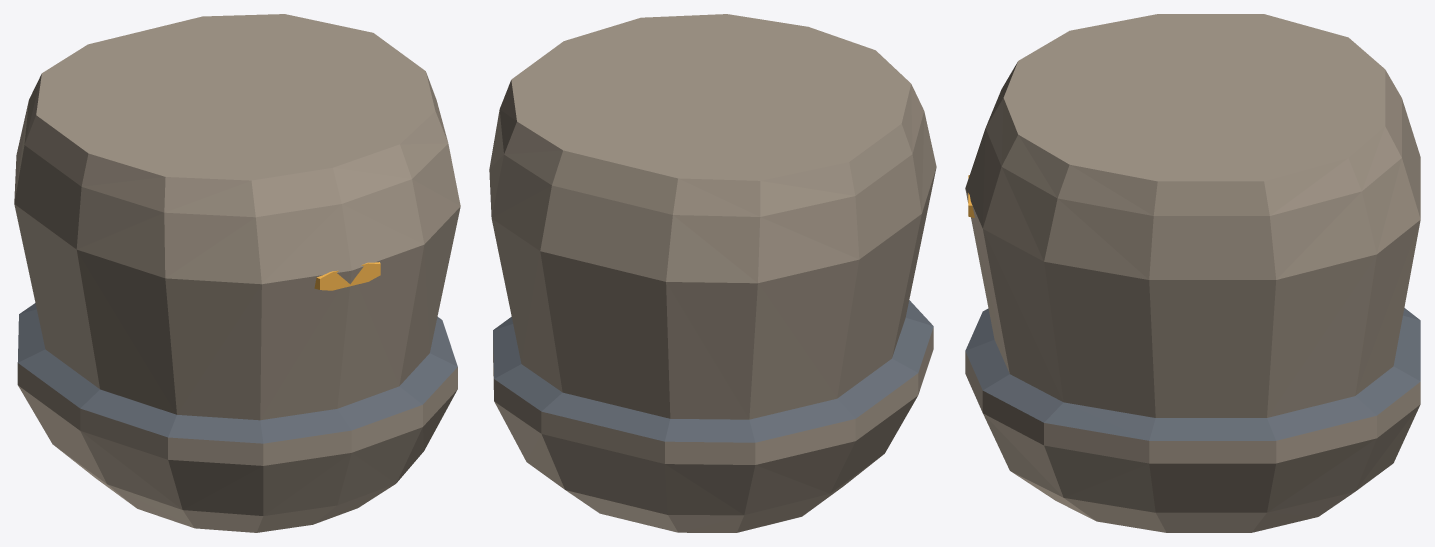
The model's file is pauldron_medium.glb.
3 renders of one model, left to right at view 1: azimuth 30°, elevation 25°; view 2: azimuth 150°, elevation 25°; view 3: azimuth 270°, elevation 25°, orthographic.
Parts seen in each view (by area): view 1: pauldron_medium; view 2: pauldron_medium; view 3: pauldron_medium.
Boxes of the visible parts, x1=… form: pauldron_medium: x1=14, y1=14, x2=460, y2=532; pauldron_medium: x1=489, y1=14, x2=936, y2=532; pauldron_medium: x1=965, y1=14, x2=1420, y2=532.
Bounding box in the file's own units: 1.04 × 1 × 1.09.
